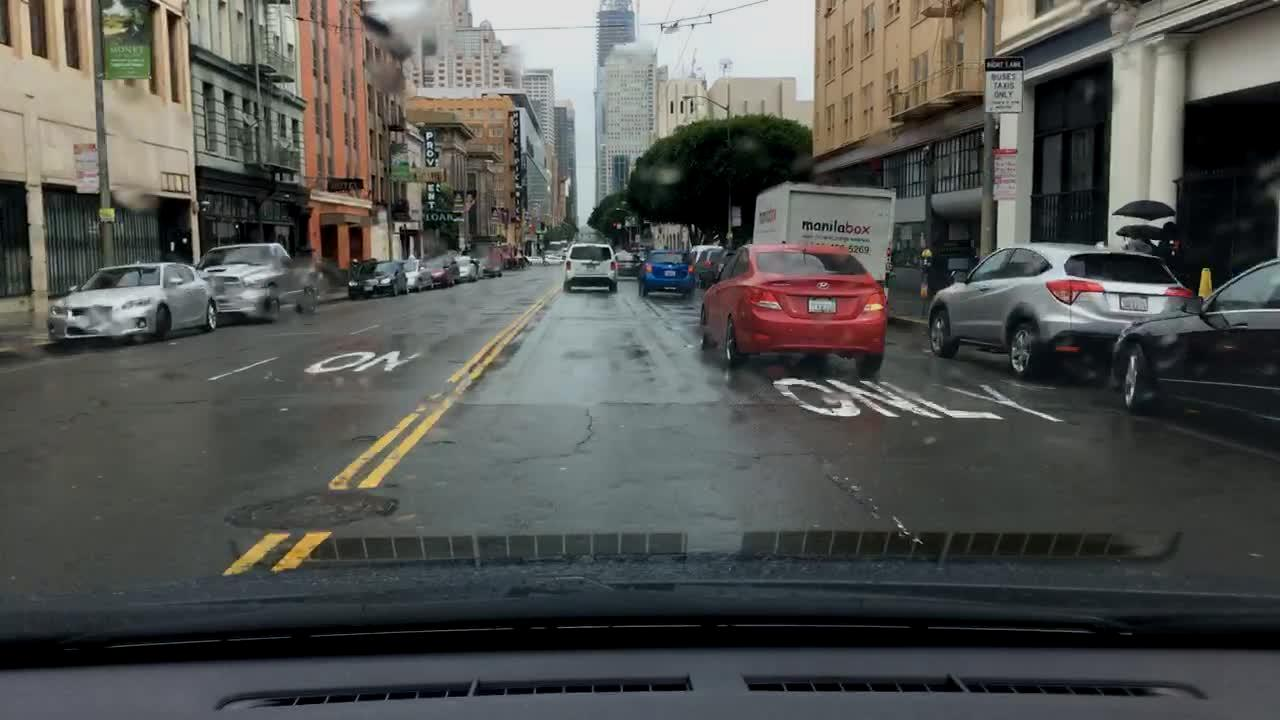Hyundai: (814, 277, 833, 294)
